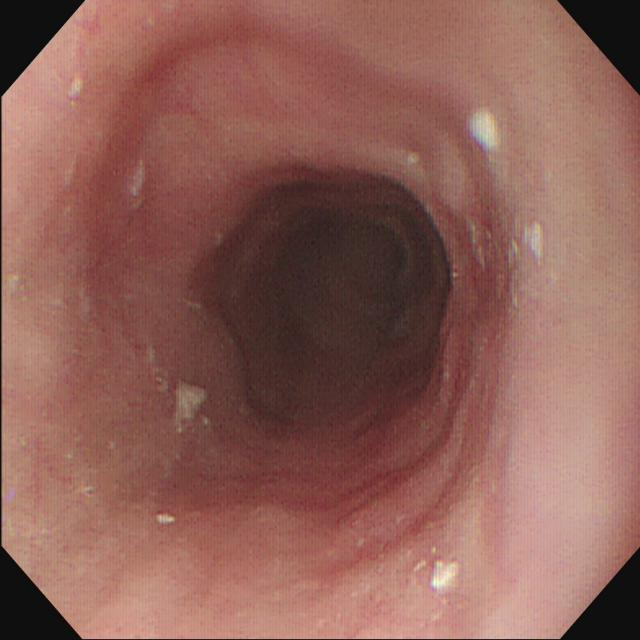E: (335, 227, 419, 326)
J: (176, 383, 213, 435), (467, 108, 501, 156), (523, 222, 544, 269), (433, 562, 462, 592)
